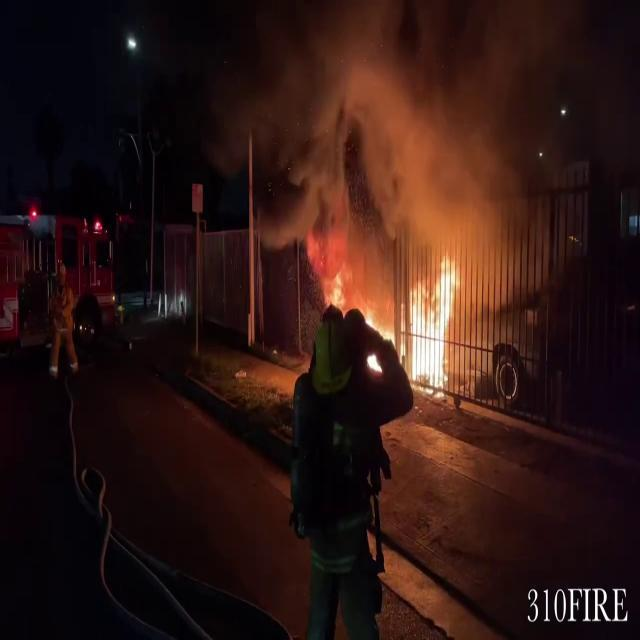Fire: (398, 245, 462, 393)
Smoke: (215, 1, 522, 256)
